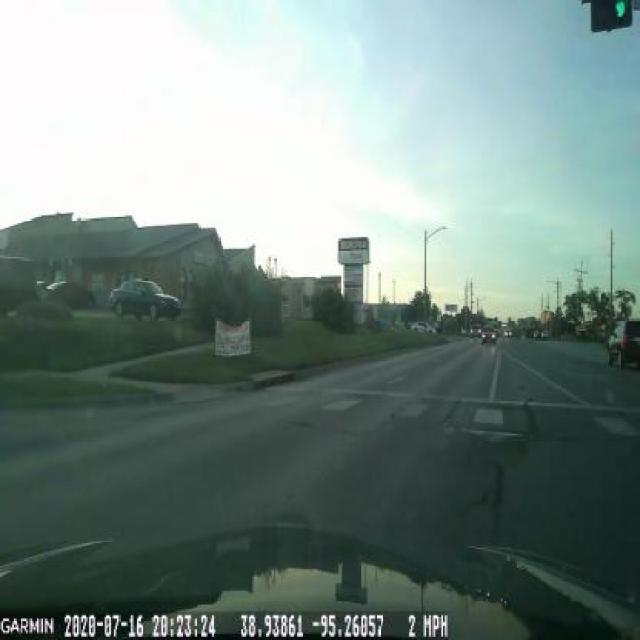Pothole: (442, 421, 527, 452)
